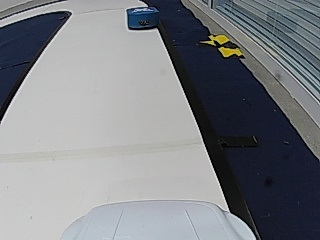prop: (127, 6, 160, 30)
